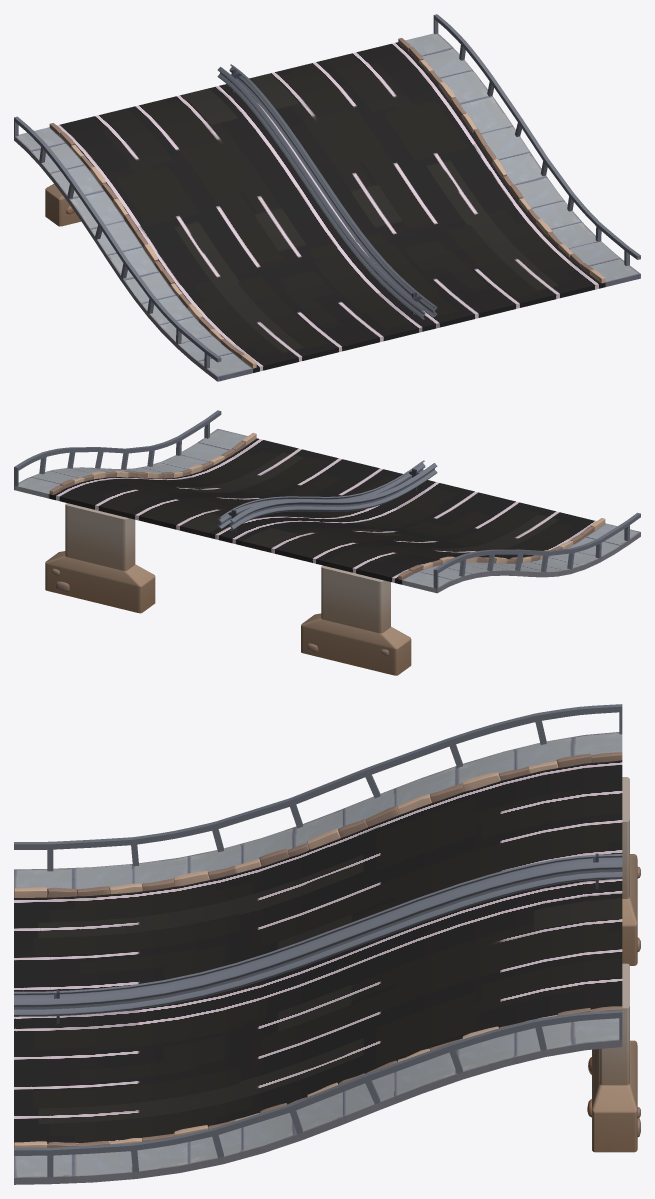
The model's file is CityRoad_8LineBridgeStartEnd.fbx.
3 renders of one model, top to bottom at view 1: azimuth 30°, elevation 25°; view 2: azimuth 150°, elevation 25°; view 3: azimuth 270°, elevation 25°, orthographic. The views are drawn at different scales.
Visible parts, largest first — view 1: CityRoad_8LineBridgeStartEnd_mesh; view 2: CityRoad_8LineBridgeStartEnd_mesh; view 3: CityRoad_8LineBridgeStartEnd_mesh.
Boxes of the visible parts, box(x1,y1,x2,y2) form: CityRoad_8LineBridgeStartEnd_mesh: box(14, 14, 640, 381); CityRoad_8LineBridgeStartEnd_mesh: box(14, 410, 640, 675); CityRoad_8LineBridgeStartEnd_mesh: box(14, 704, 640, 1184).
Size of the model in its own units: 2400 by 636 by 2061.
